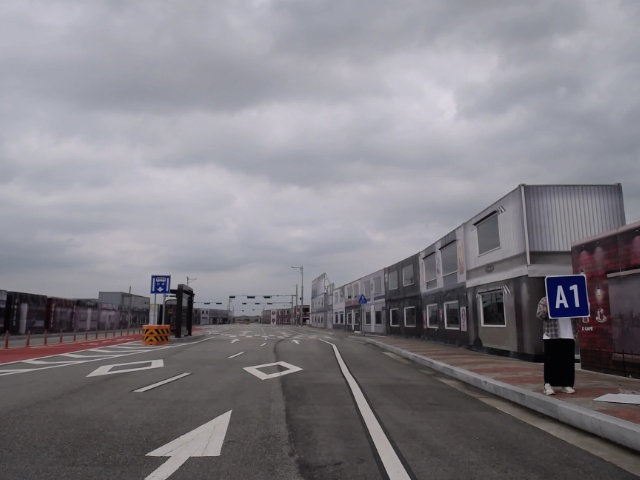delivery_a1: (545, 274, 591, 318)
